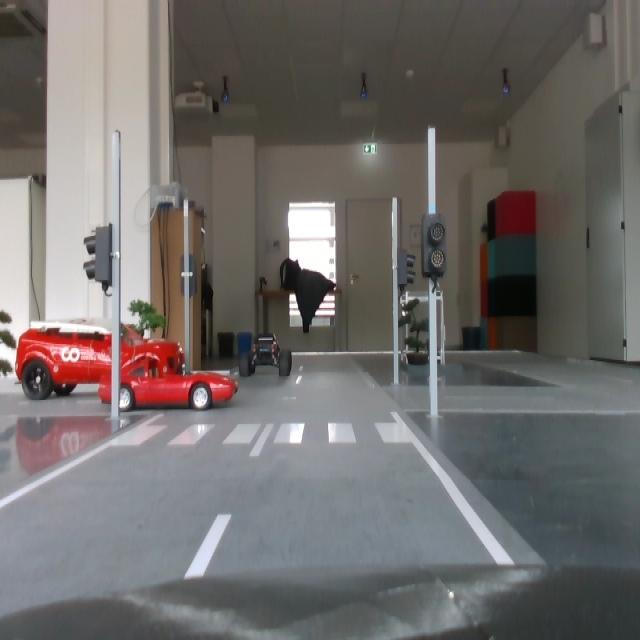car: (19, 317, 187, 401), (99, 355, 240, 412), (241, 333, 294, 382)
potted plant: (401, 298, 433, 355), (1, 299, 17, 391)
traffic light: (84, 218, 115, 291), (420, 215, 451, 282), (397, 250, 417, 293), (182, 254, 200, 300)
